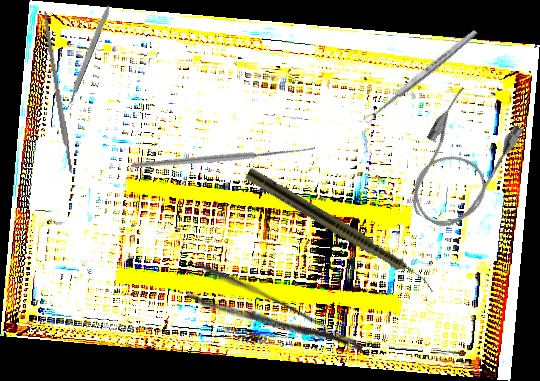Cannula: (391, 83, 528, 240)
Dressing Forceps: (184, 259, 366, 380)
Handpiece: (243, 166, 441, 295)
Hook Surgical: (130, 72, 319, 235)
Scalpel Handle: (41, 10, 74, 175), (64, 0, 114, 107)
Surgical Spoon: (362, 28, 479, 125)
